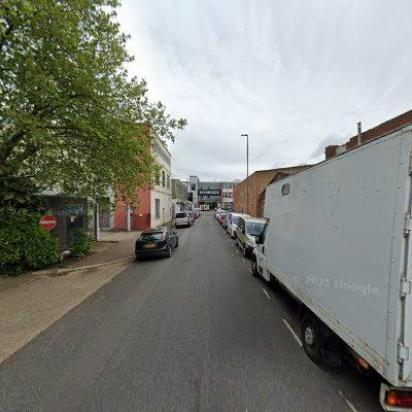stationary-car-onstreet: (134, 227, 180, 260), (226, 212, 248, 236), (172, 210, 192, 228), (213, 210, 223, 220)
stationary-heavy-truck-onstreet: (253, 149, 411, 403)
stationary-light-truck-onstreet: (235, 216, 267, 258)
